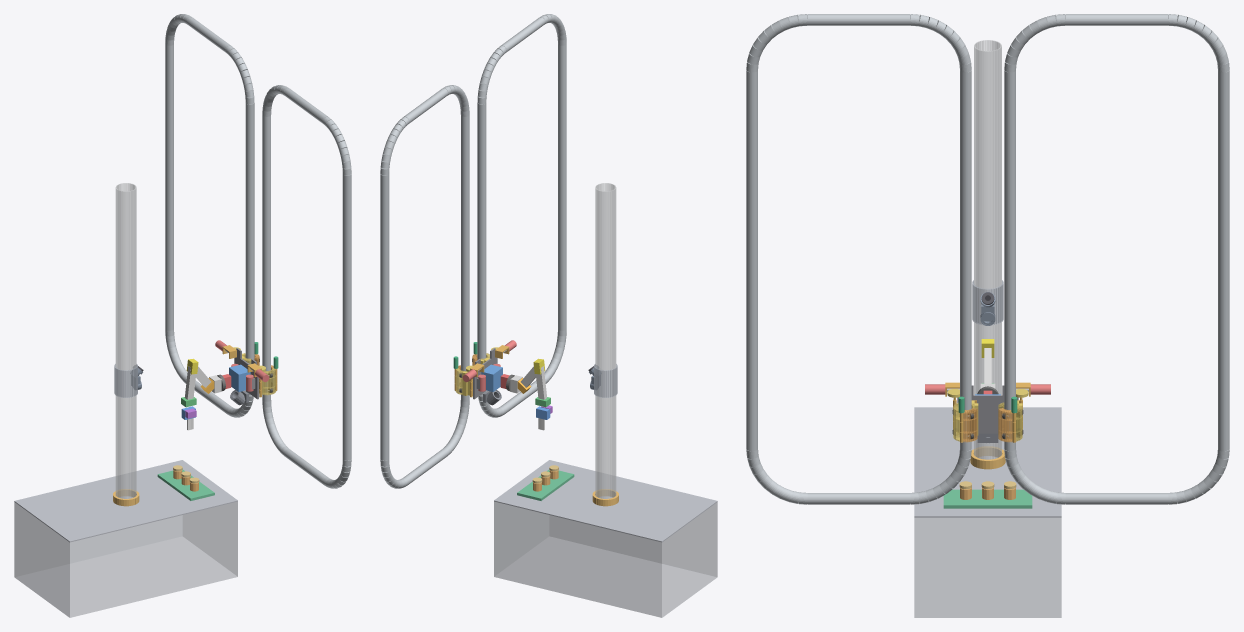
The model's file is transplant-seedling-start-v4.glb.
3 renders of one model, left to right at view 1: azimuth 30°, elevation 25°; view 2: azimuth 150°, elevation 25°; view 3: azimuth 270°, elevation 25°, orthographic. The views are drawn at different scales.
Bounding box in the file's own units: 0.94 × 1.9 × 1.31.
